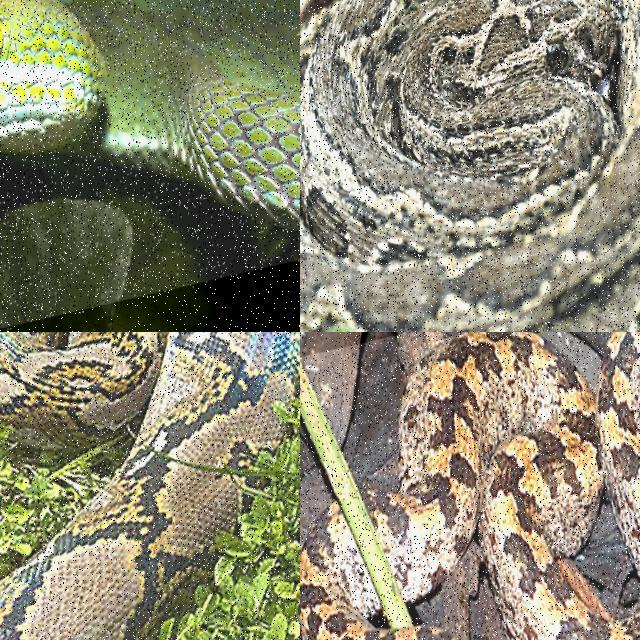Daboia siamensis: (300, 0, 639, 331)
Malayopython reticulatus: (0, 332, 299, 639)
Ovophis monticola: (366, 332, 639, 639)
Trimeresurus macrops: (0, 0, 299, 234)
